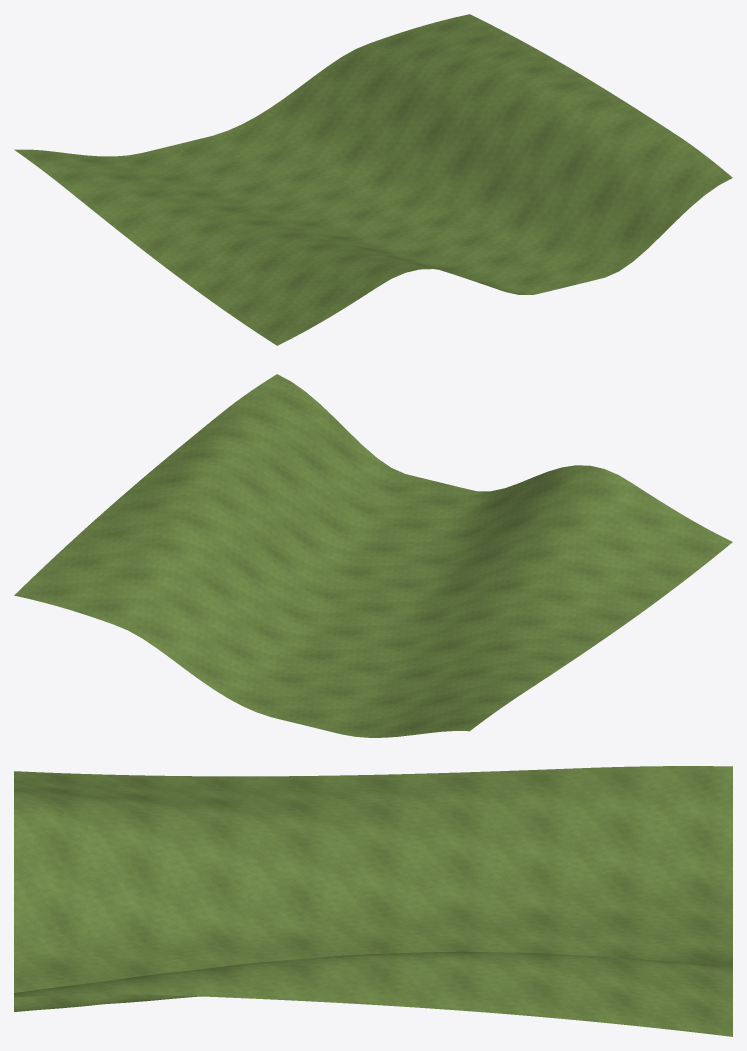
Rendered from terrain_green_highlands_chunk_64m.glb.
3 views of the same model, one above another, from view 1: azimuth 30°, elevation 25°; view 2: azimuth 150°, elevation 25°; view 3: azimuth 270°, elevation 25° (orthographic). The views are drawn at different scales.
Parts seen in each view (by area): view 1: terrain; view 2: terrain; view 3: terrain.
Part boxes in pixels (left/top/right/bottom): terrain: left=14, top=14, right=732, bottom=345; terrain: left=14, top=374, right=732, bottom=737; terrain: left=14, top=766, right=732, bottom=1036.
Size of the model in its own units: 64 by 12.41 by 64.
1 material, 1 textured.
